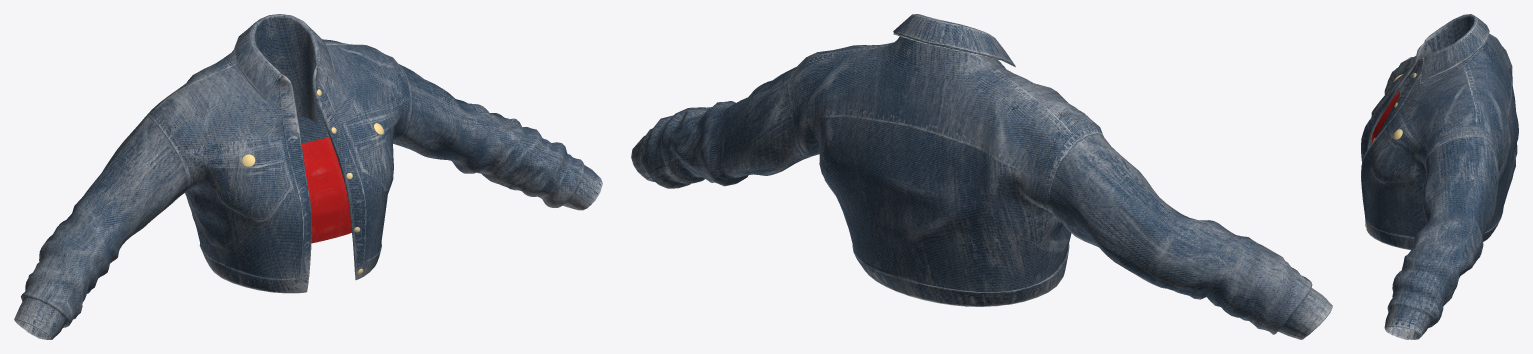
File: jean_jacket.glb
The picture shows the model from 3 angles, left to right: view 1: azimuth 30°, elevation 25°; view 2: azimuth 150°, elevation 25°; view 3: azimuth 270°, elevation 25°; orthographic projection. The views are drawn at different scales.
Parts seen in each view (by area): view 1: Jean_Jacket; view 2: Jean_Jacket; view 3: Jean_Jacket.
Part boxes in pixels (x1=…): Jean_Jacket: x1=14, y1=14, x2=602, y2=339; Jean_Jacket: x1=631, y1=14, x2=1332, y2=339; Jean_Jacket: x1=1361, y1=14, x2=1518, y2=339.
Bounding box in the file's own units: 2 × 0.7524 × 0.5299.
Materials: 1 (1 with a texture image).
